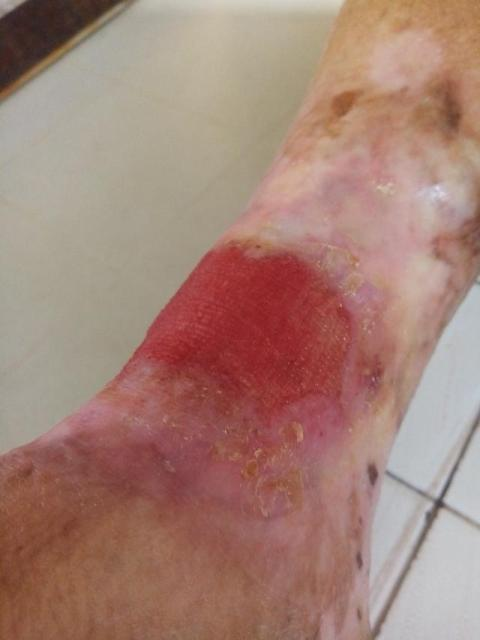wound: (112, 239, 358, 433)
